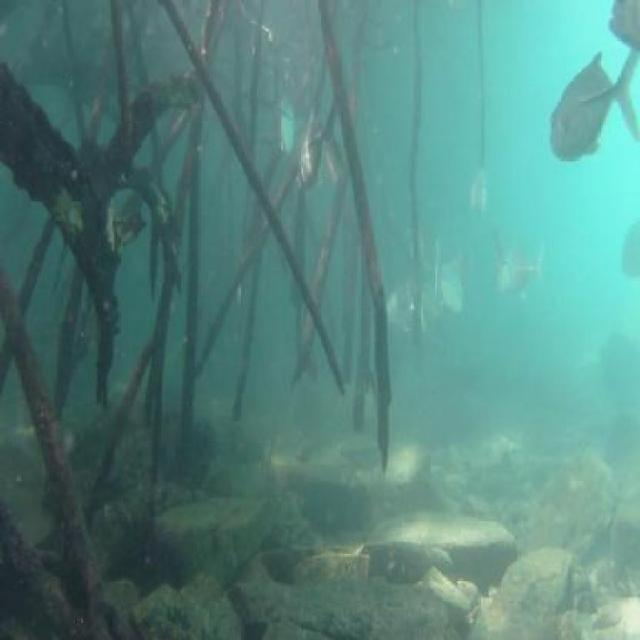Caranx_sexfasciatus_juvenile: (551, 51, 640, 175), (294, 110, 344, 192), (427, 233, 470, 322), (507, 238, 550, 304), (488, 233, 522, 310), (270, 85, 302, 158), (601, 0, 640, 58), (469, 162, 494, 224), (620, 218, 640, 288)
